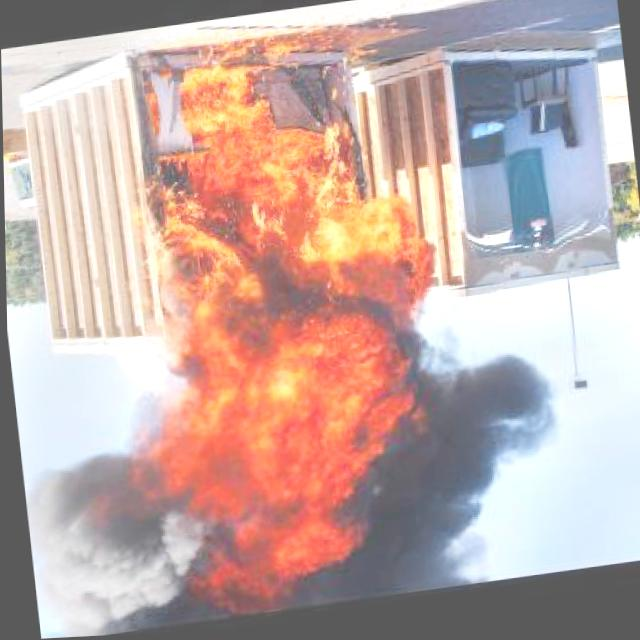Fire: (117, 33, 463, 606)
Smoke: (402, 349, 577, 571), (20, 435, 187, 640)
